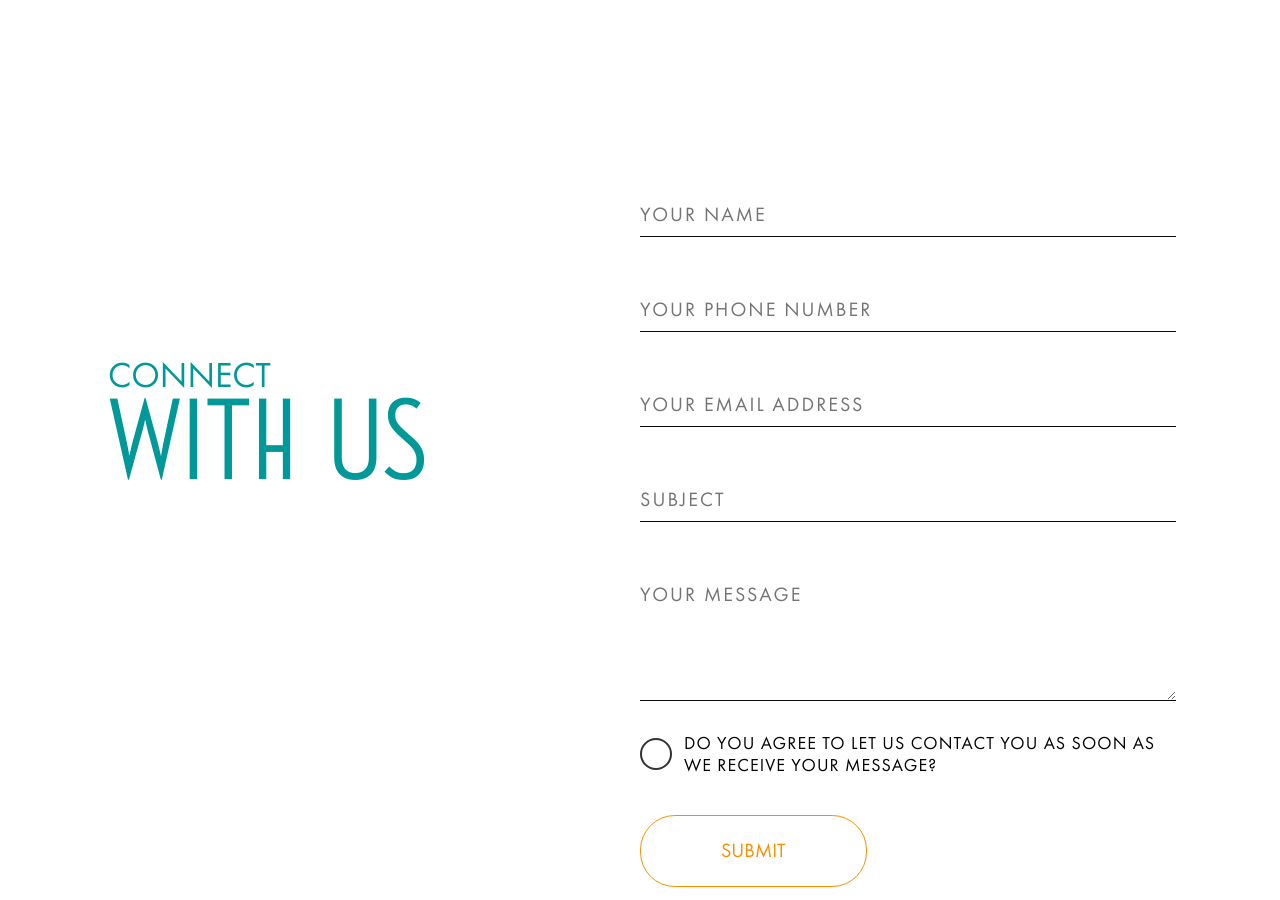
Test: Contact Module Integration › should complete full contact form flow
The image size is (1280, 900).
Expected: the field with placeholder "Your Phone Number" is shown, [640, 287, 1176, 332]
Expected: the field with placeholder "Your Email Address" is shown, [640, 382, 1176, 427]
// Fill out the form
In the field with placeholder "Your Name": (908, 214) [640, 192, 1176, 237], type "John Doe"
In the field with placeholder "Your Phone Number": (908, 310) [640, 287, 1176, 332], type "+919876543210"
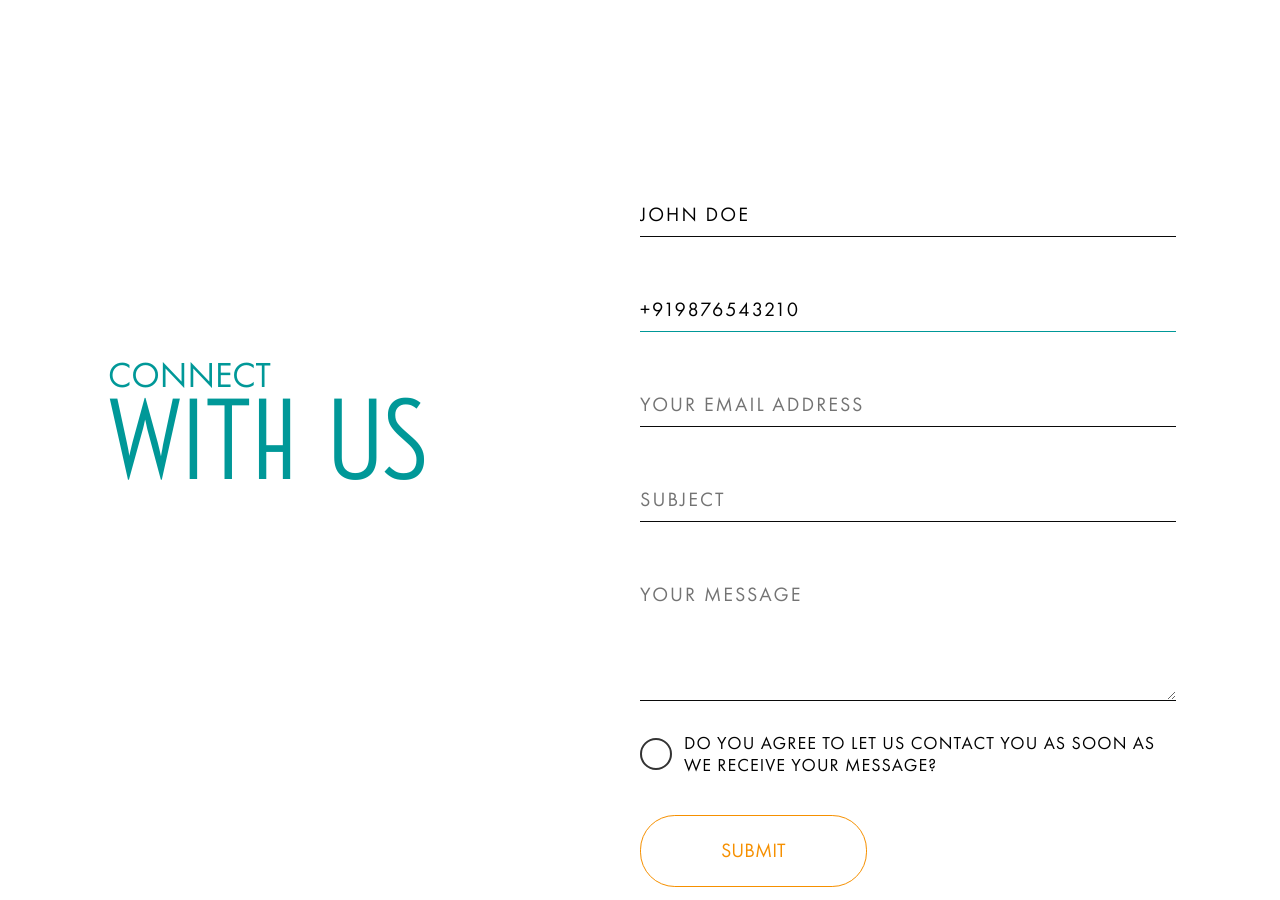
In the field with placeholder "Your Email Address": (908, 404) [640, 382, 1176, 427], type "john@example.com"
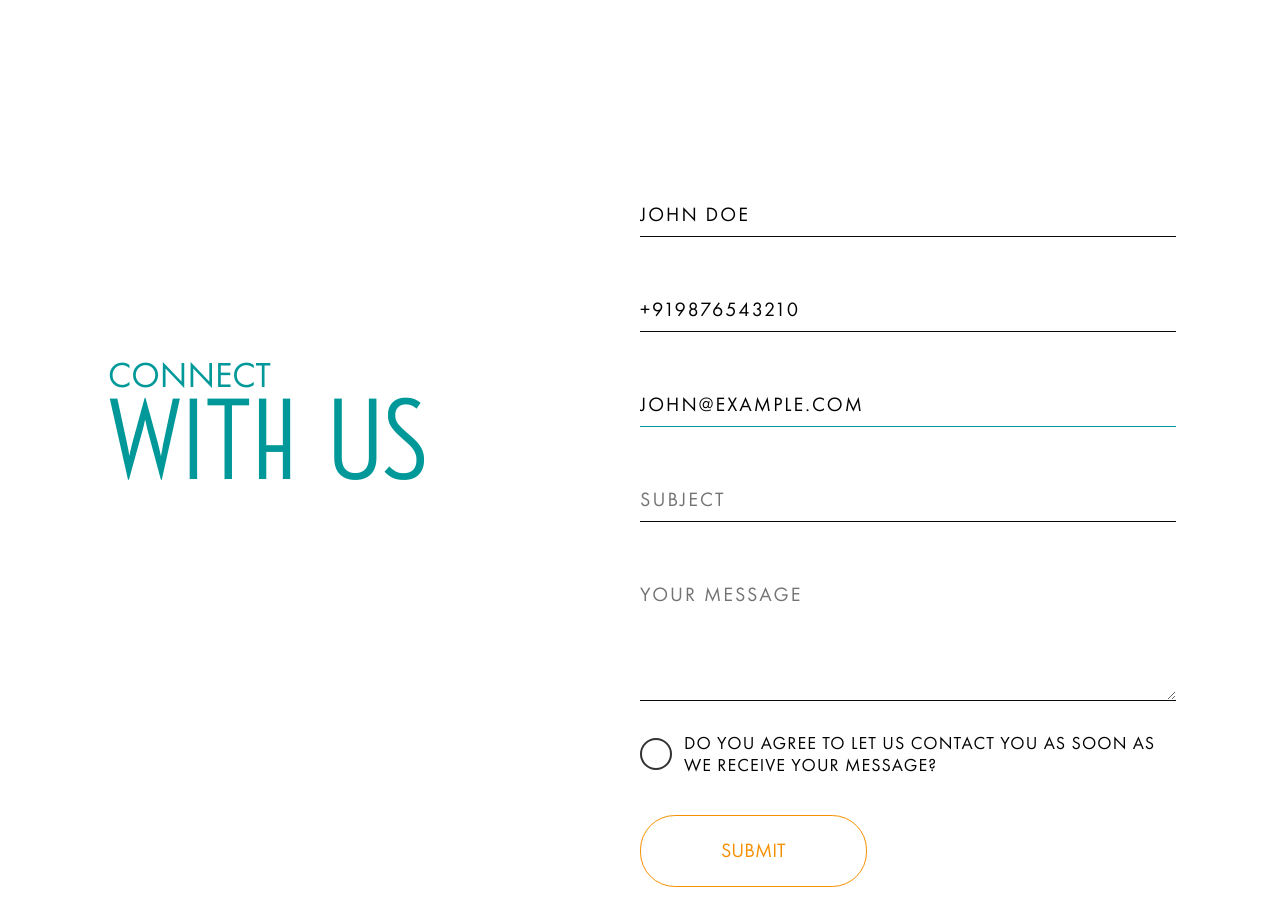
In the field with placeholder "Subject": (908, 500) [640, 477, 1176, 522], type "Test Subject"
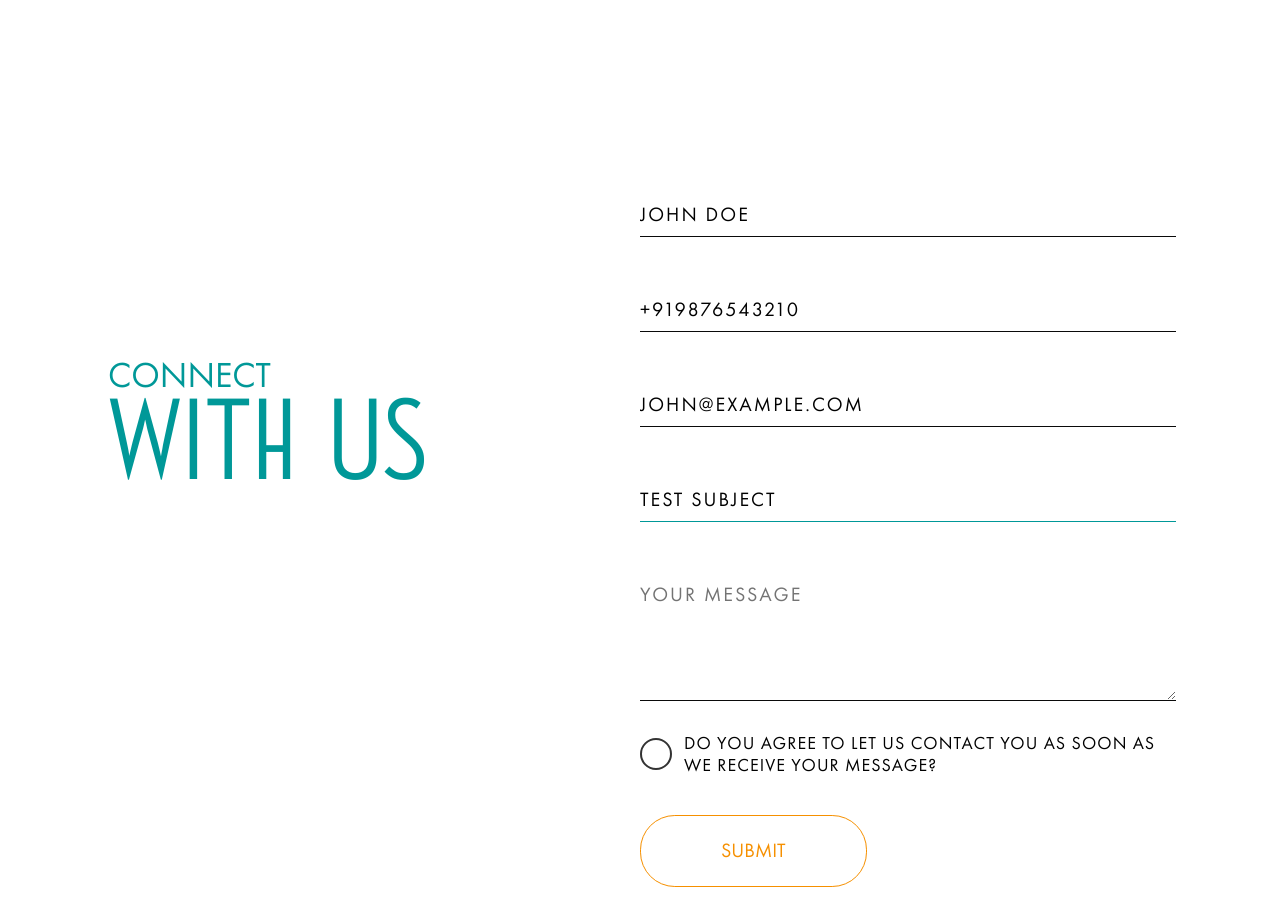
In the text box with placeholder "Your Message": (908, 636) [640, 572, 1176, 701], type "This is a test message"
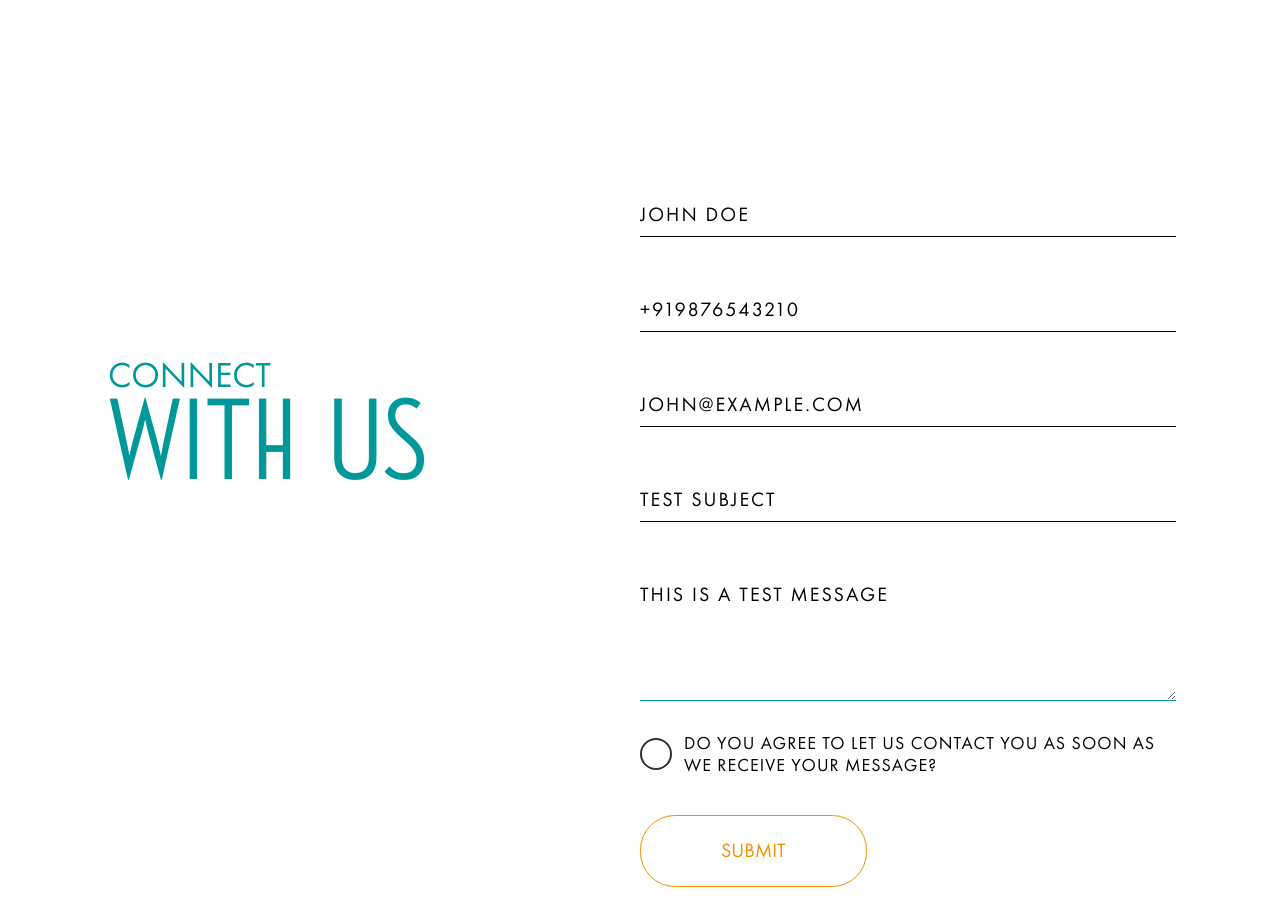
Click the checkbox: (908, 754) [640, 732, 1176, 775]
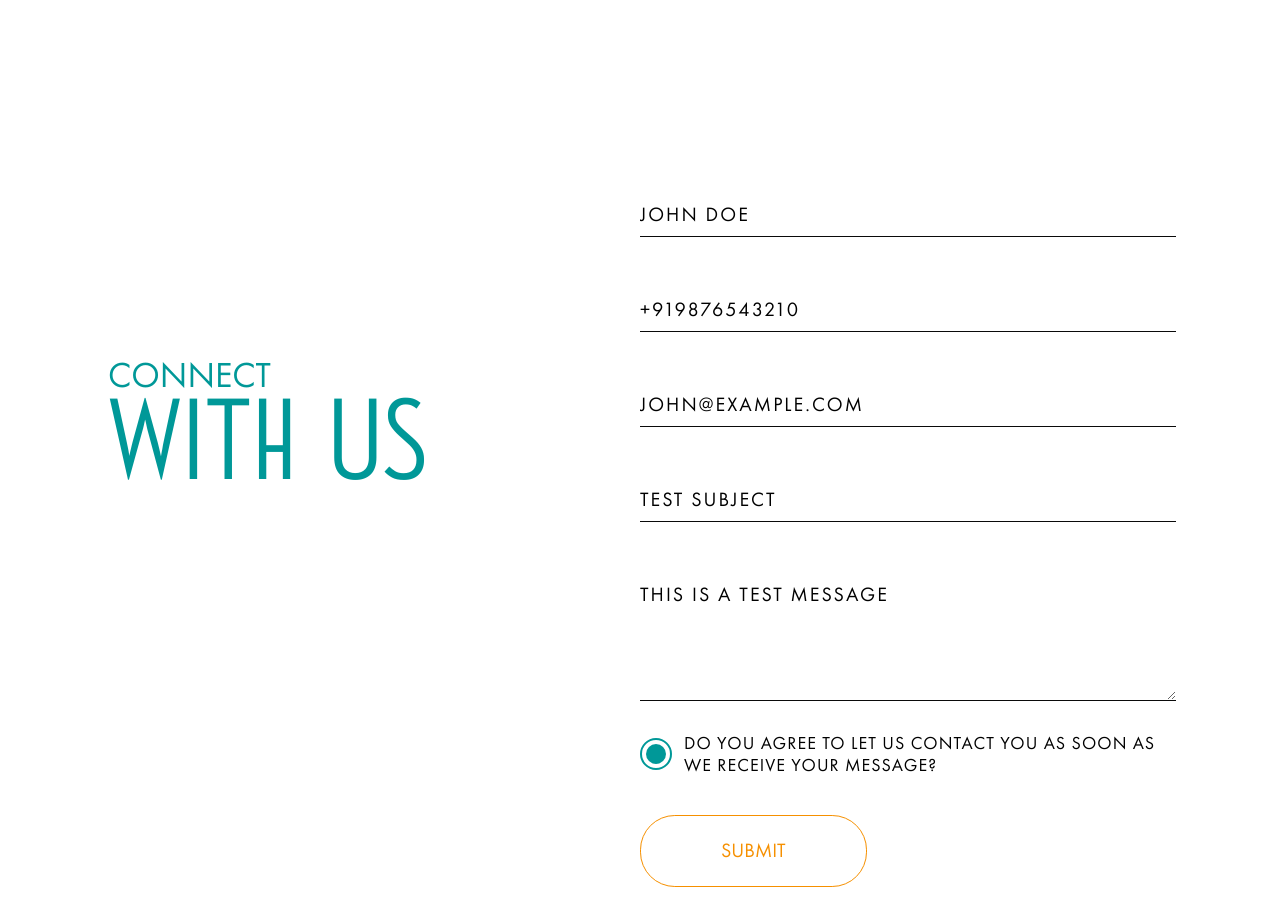
// Submit the form
Click the button "Submit": (753, 851) [640, 815, 867, 887]
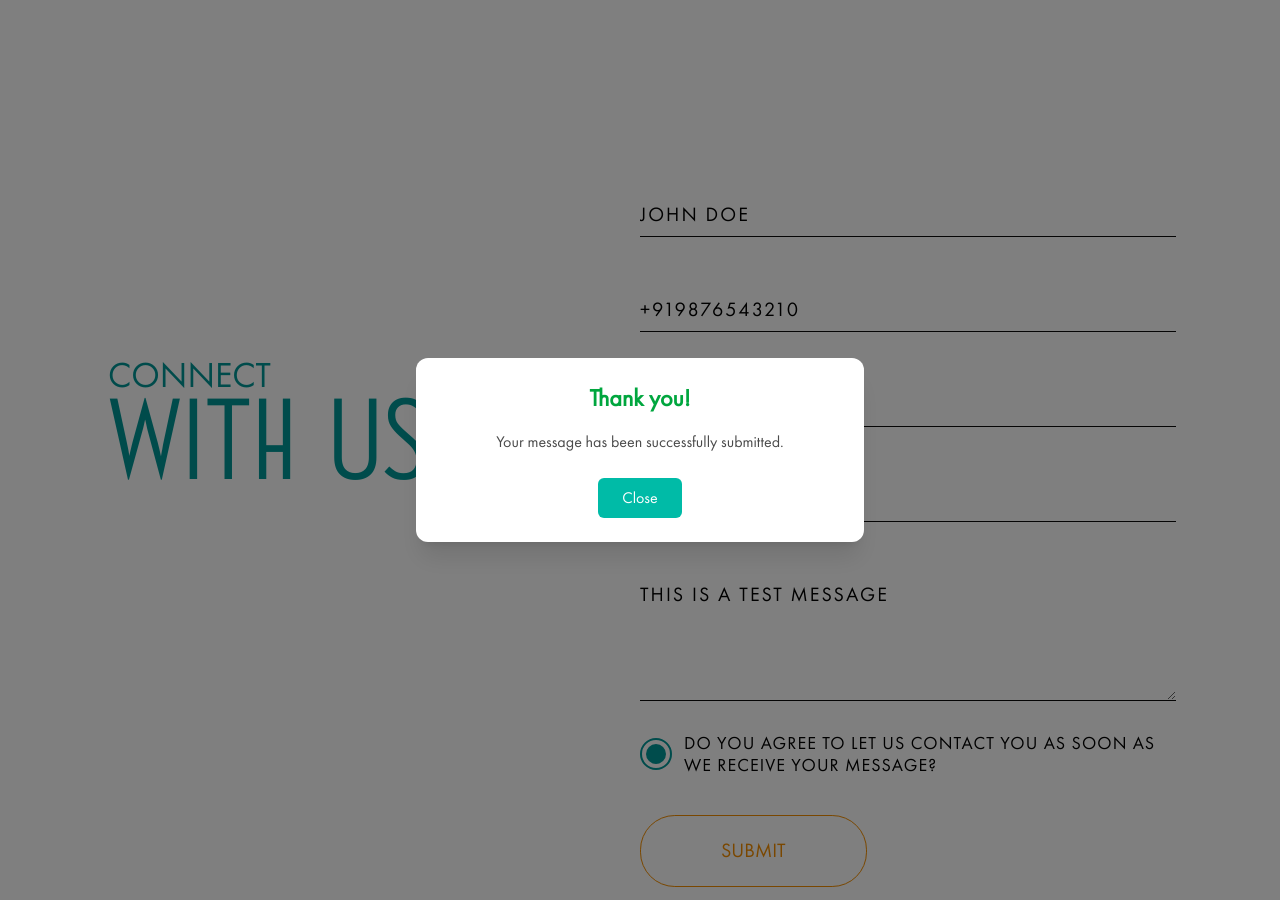
Expected: the heading "Thank you!" is shown, [590, 382, 690, 413]
